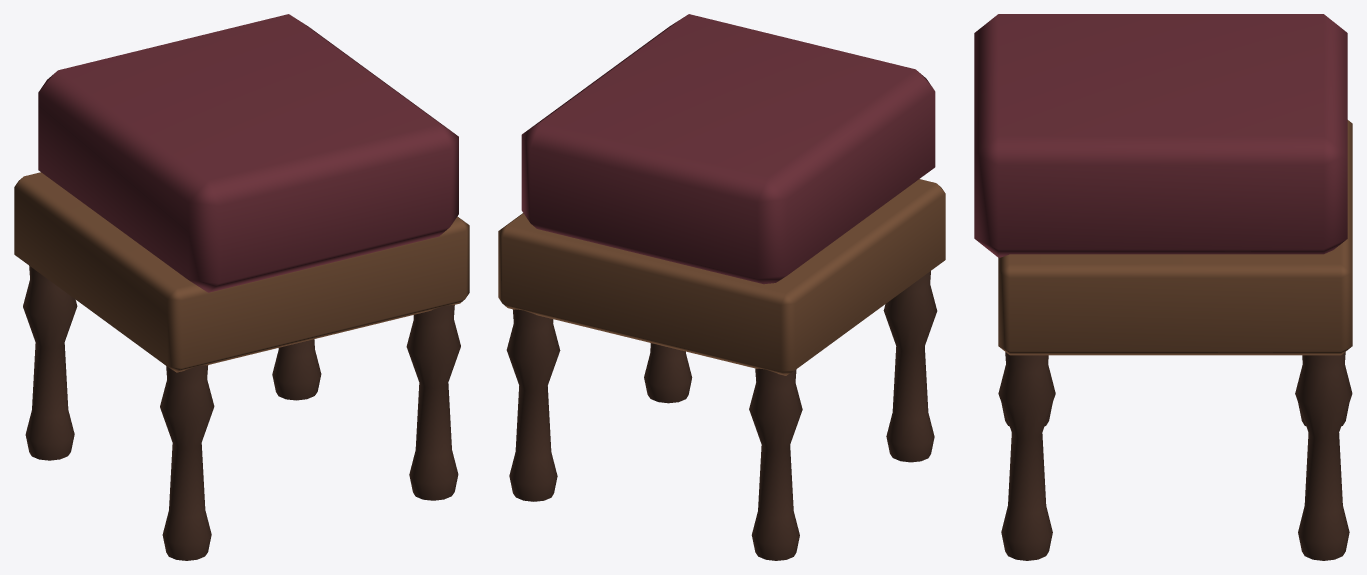
The model's file is rpg-mansion-stool-01.glb.
3 views of the same model, side by side, from view 1: azimuth 30°, elevation 25°; view 2: azimuth 150°, elevation 25°; view 3: azimuth 270°, elevation 25° (orthographic). The views are drawn at different scales.
Visible parts, largest first — view 1: rpg-mansion-stool-01; view 2: rpg-mansion-stool-01; view 3: rpg-mansion-stool-01.
Part boxes in pixels (x1,y1,x2,y2): rpg-mansion-stool-01: (14,14,469,560); rpg-mansion-stool-01: (498,14,945,560); rpg-mansion-stool-01: (974,14,1352,560).
Bounding box in the file's own units: 0.45 × 0.54 × 0.45.
